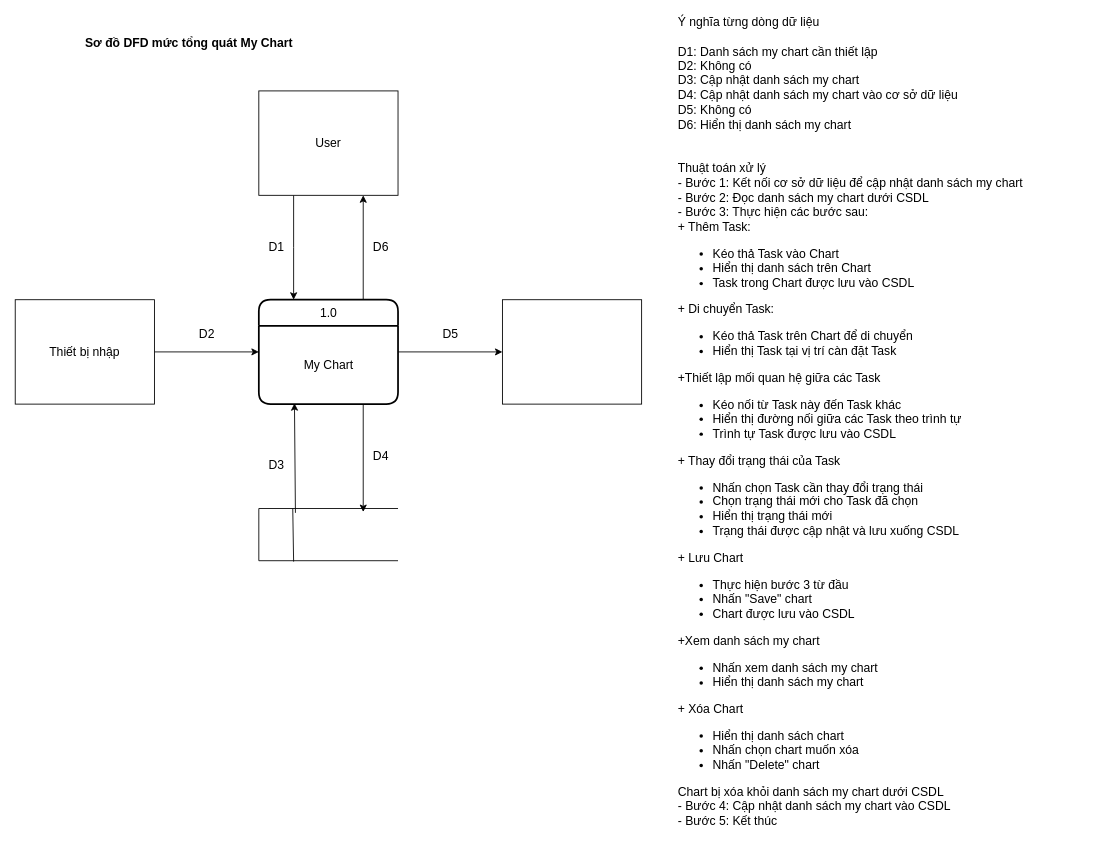
The diagram is 1109 pixels wide and 843 high, and some of its shapes have lost their labels. Here are the shapes that lost their labels. From the top down, the centre of each, then its label:
[572,351]: Thiết bị xuất
[328,534]: Kho
